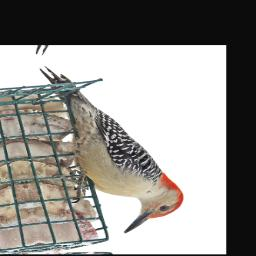Woodpecker: (37, 53, 191, 241)
